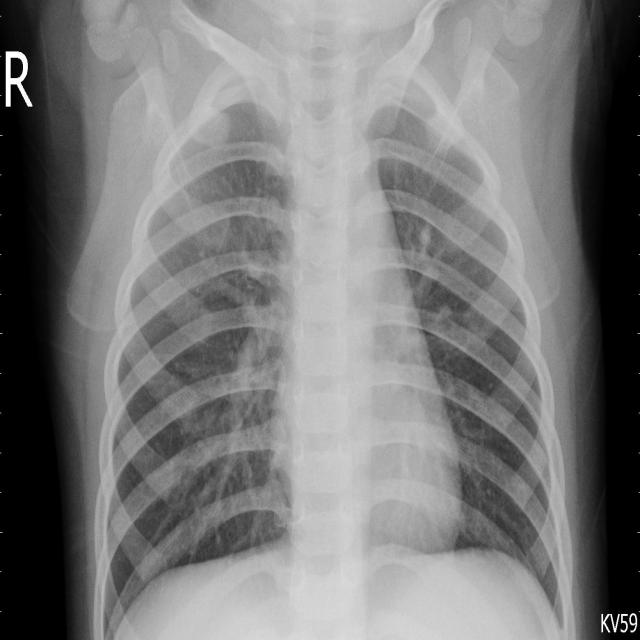no-pneumonia: (369, 77, 572, 635), (96, 101, 293, 639)
